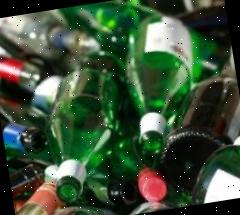glass: (34, 39, 146, 205), (114, 8, 212, 162)
